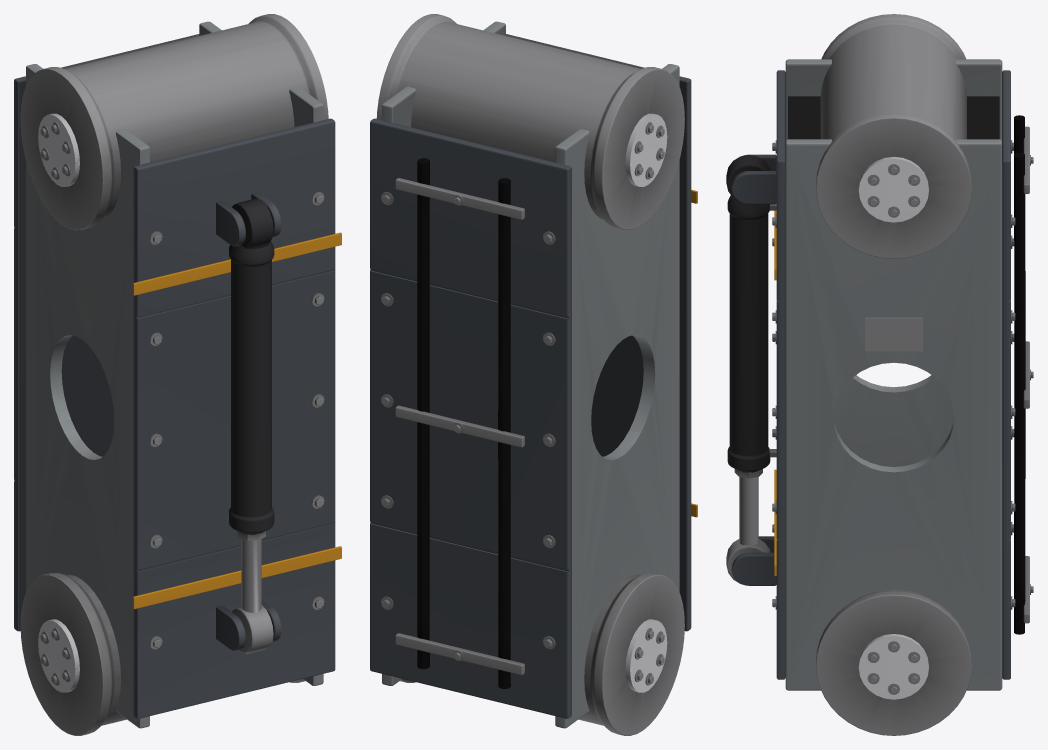
File: bastion.link_back.glb
3 views of the same model, side by side, from view 1: azimuth 30°, elevation 25°; view 2: azimuth 150°, elevation 25°; view 3: azimuth 270°, elevation 25° (orthographic). The views are drawn at different scales.
Bounding box in the file's own units: 1.26 × 3.25 × 1.46.
